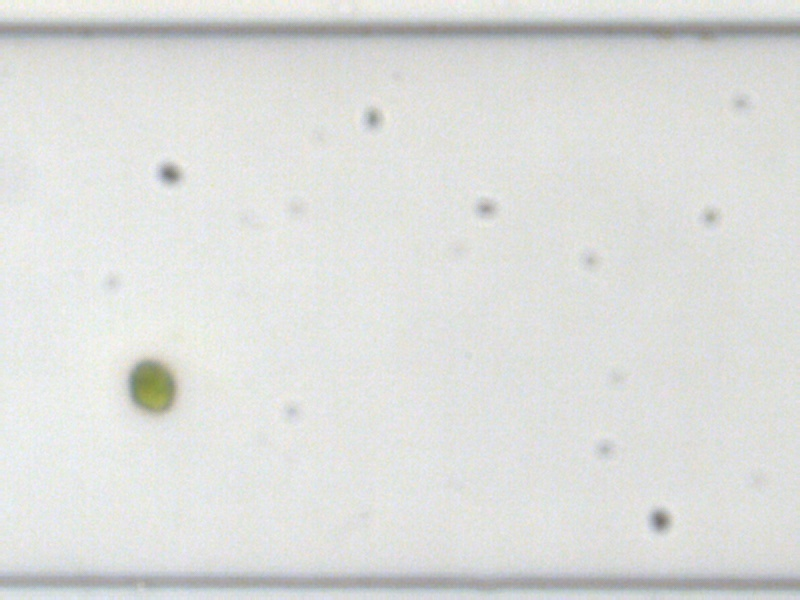Platymonas: (127, 359, 175, 415)
